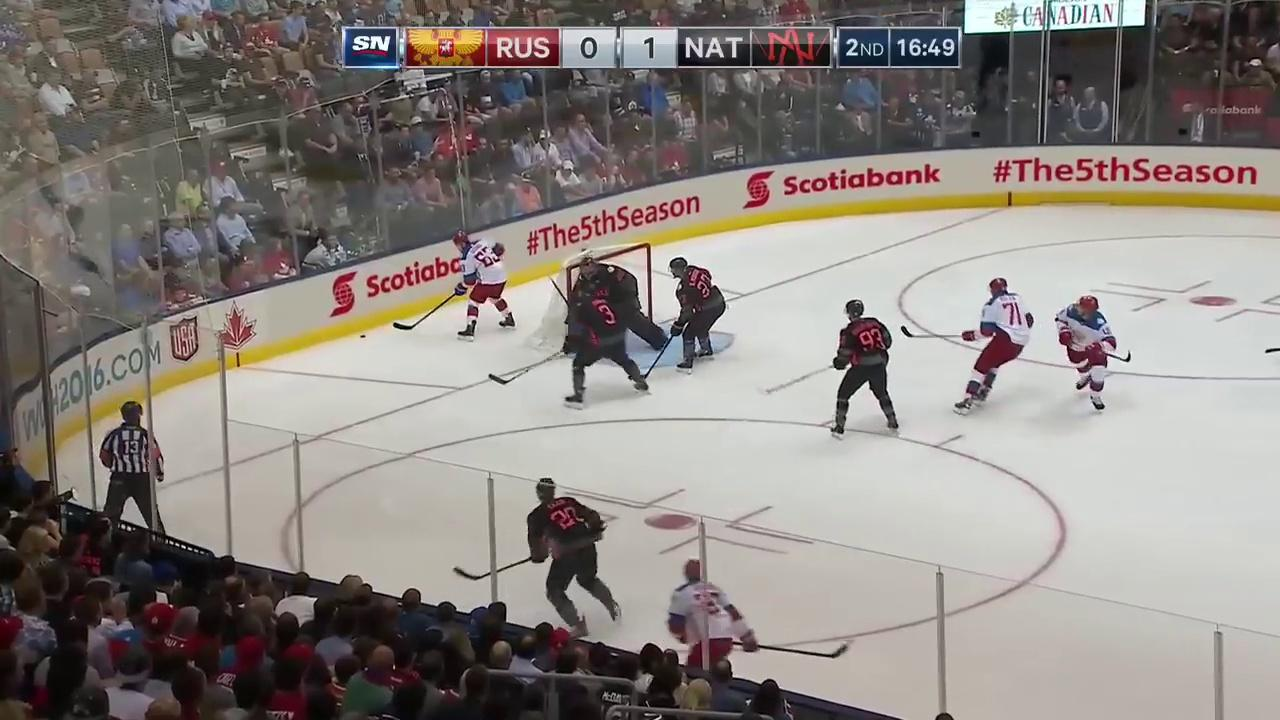ball: (360, 334, 366, 338)
